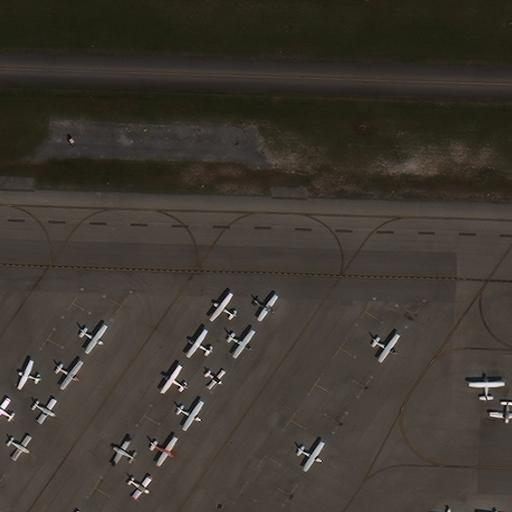Small Civil Transport: (469, 376, 504, 401), (176, 403, 205, 431), (297, 443, 325, 472), (80, 326, 108, 354), (150, 439, 178, 467), (372, 335, 401, 362), (159, 364, 186, 392), (228, 332, 256, 359), (57, 363, 84, 390), (208, 292, 234, 319), (185, 328, 210, 355), (16, 359, 39, 388), (110, 436, 134, 461), (254, 296, 278, 321), (8, 437, 32, 461), (33, 401, 57, 425), (489, 399, 511, 424), (129, 478, 153, 499), (206, 371, 226, 390), (0, 396, 12, 419)
